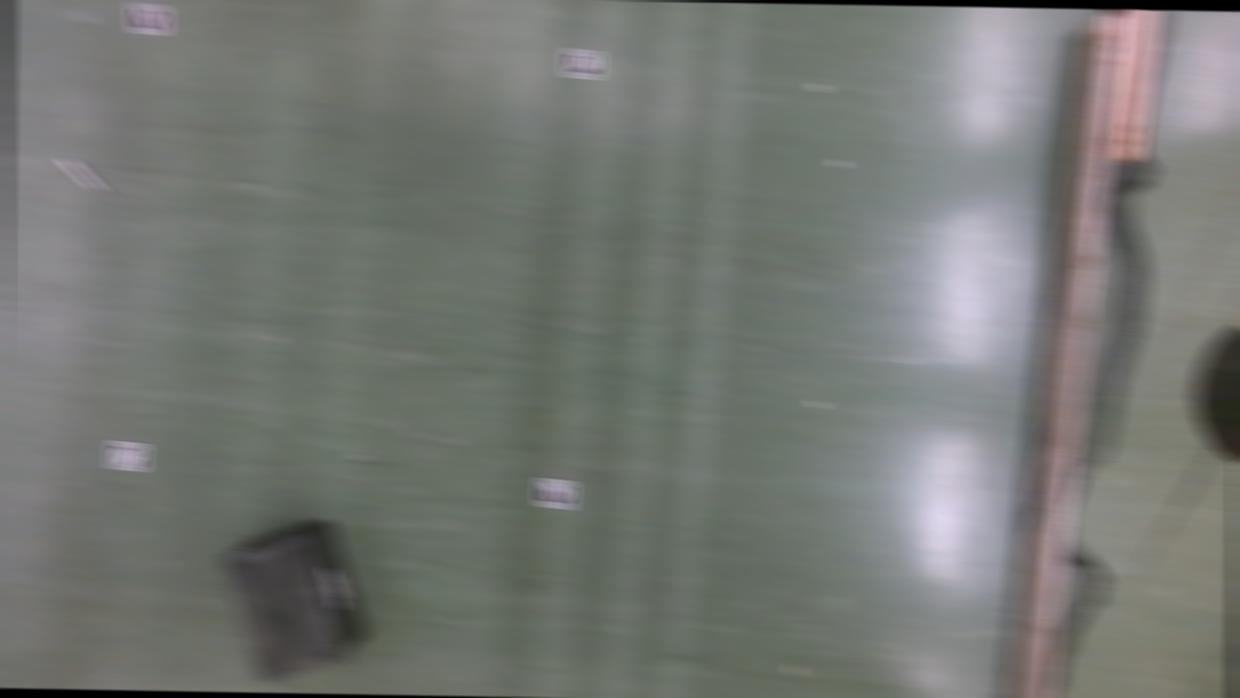probes: (58, 156, 106, 194)
rako: (216, 514, 372, 684)
